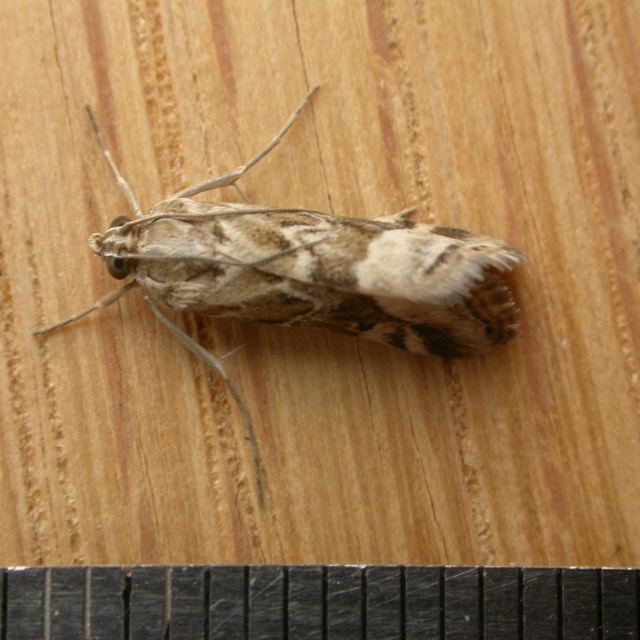Moths and butterflies: (33, 82, 525, 513)
